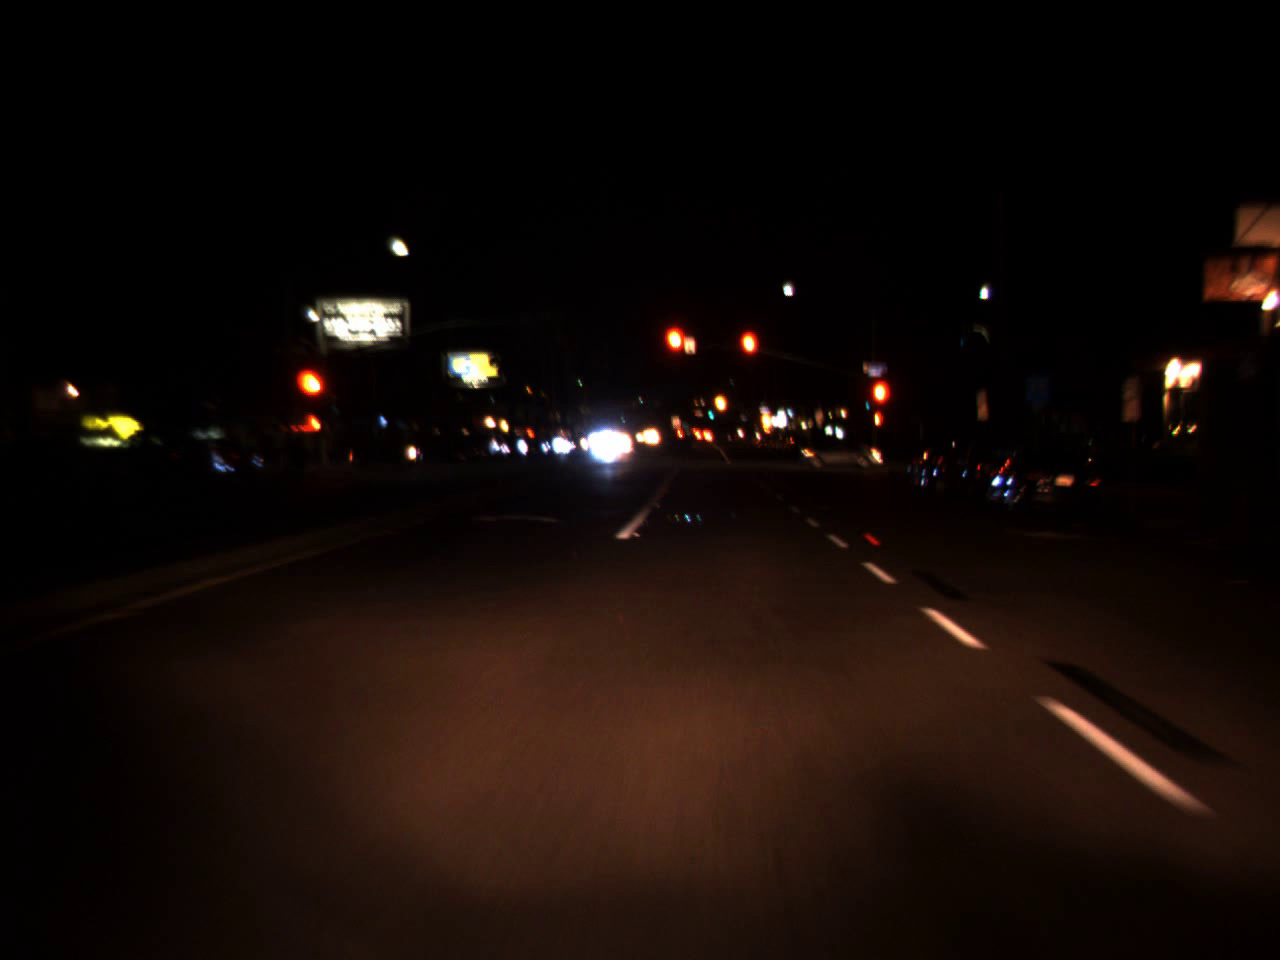go: (705, 399, 715, 423)
stop: (292, 363, 328, 430), (661, 322, 691, 381), (737, 326, 761, 385), (869, 376, 893, 432)
warning: (712, 384, 728, 419), (758, 402, 774, 432)
